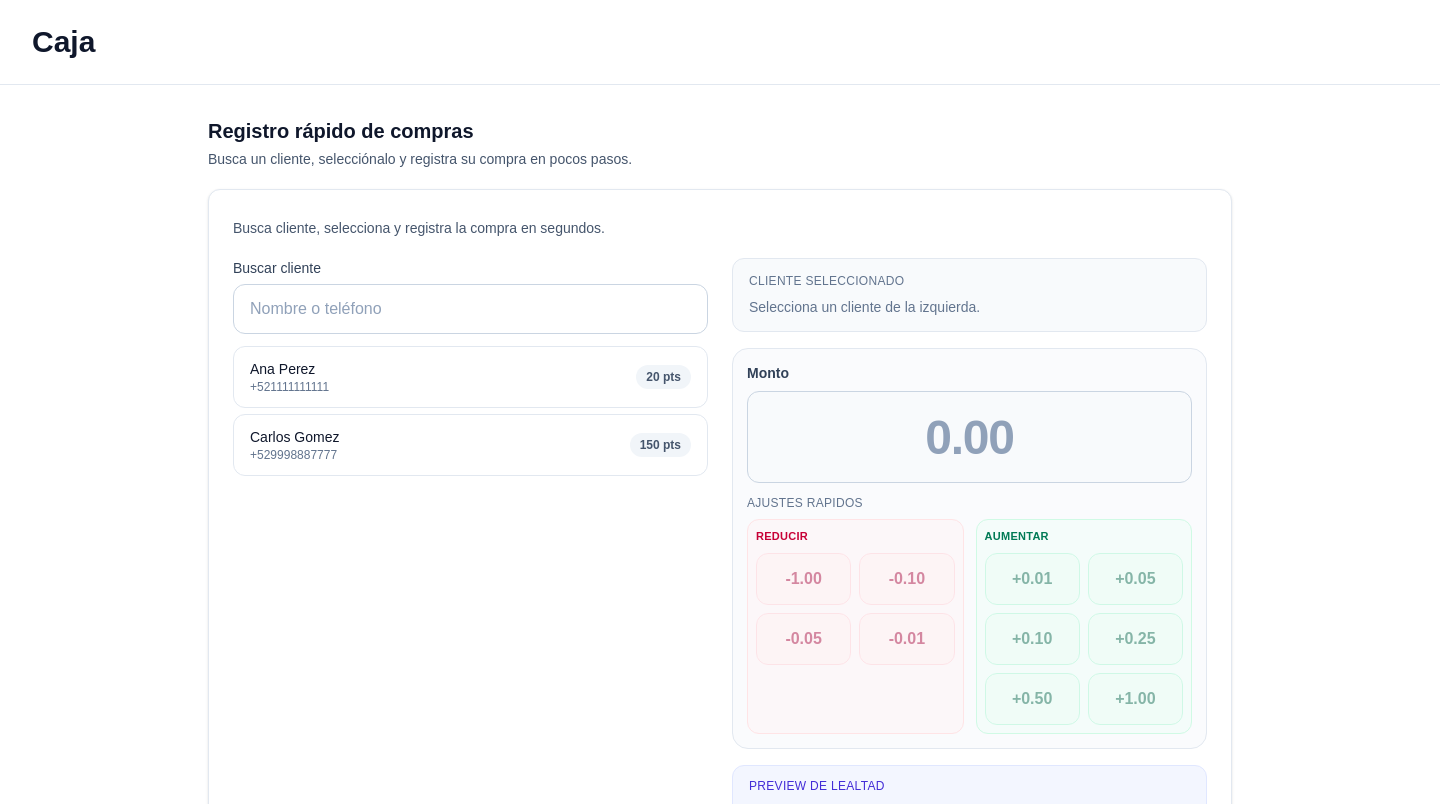
DashboardCajaPage (/dashboard/caja) › customer search › shows 'no customers found' message when search has no matches
Type "zzznoexiste" into the search field labelled "Buscar cliente". click: (470, 309)
box: 233,284 -> 708,334
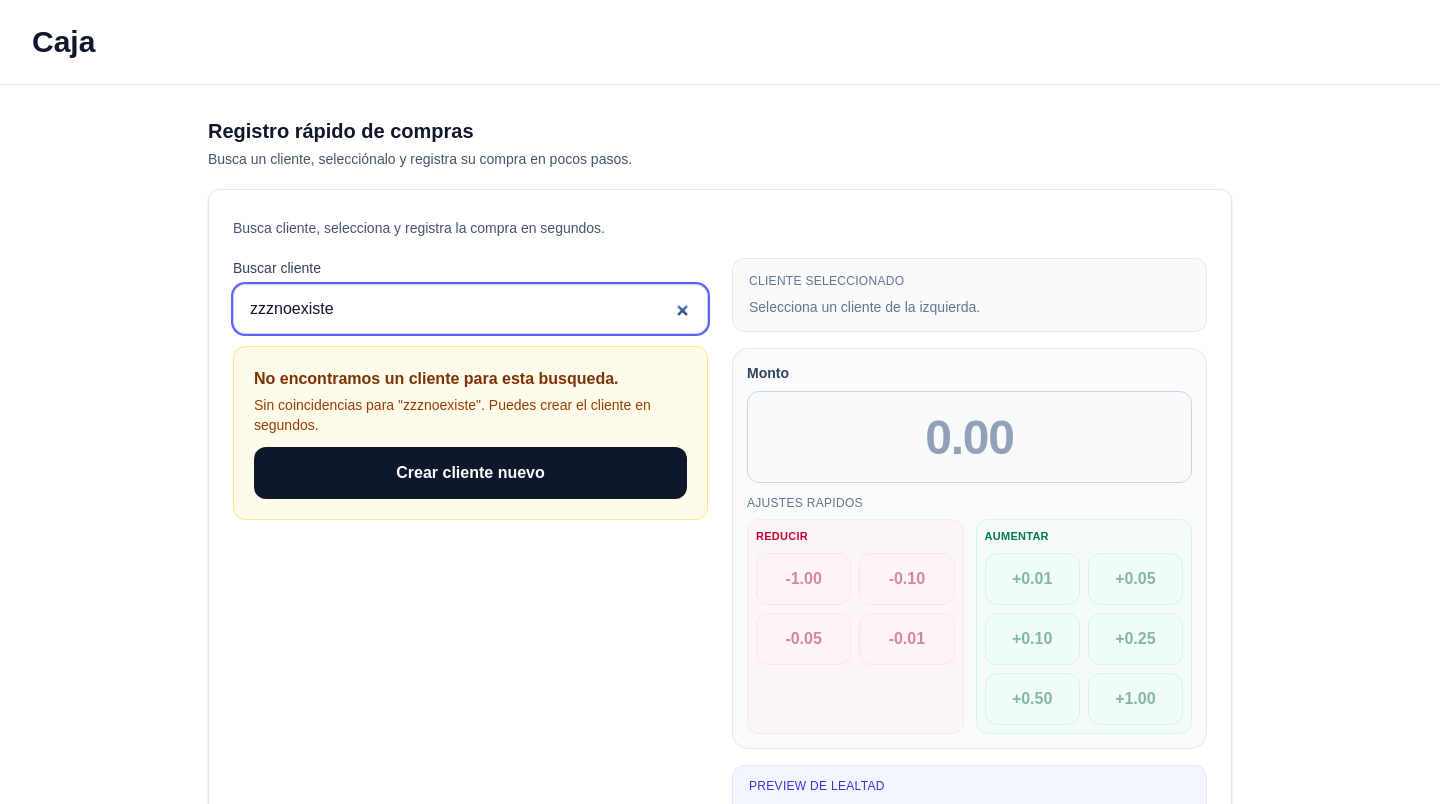
Result: the text "No encontramos un cliente para esta busqueda." is shown at 254,370 -> 618,387
